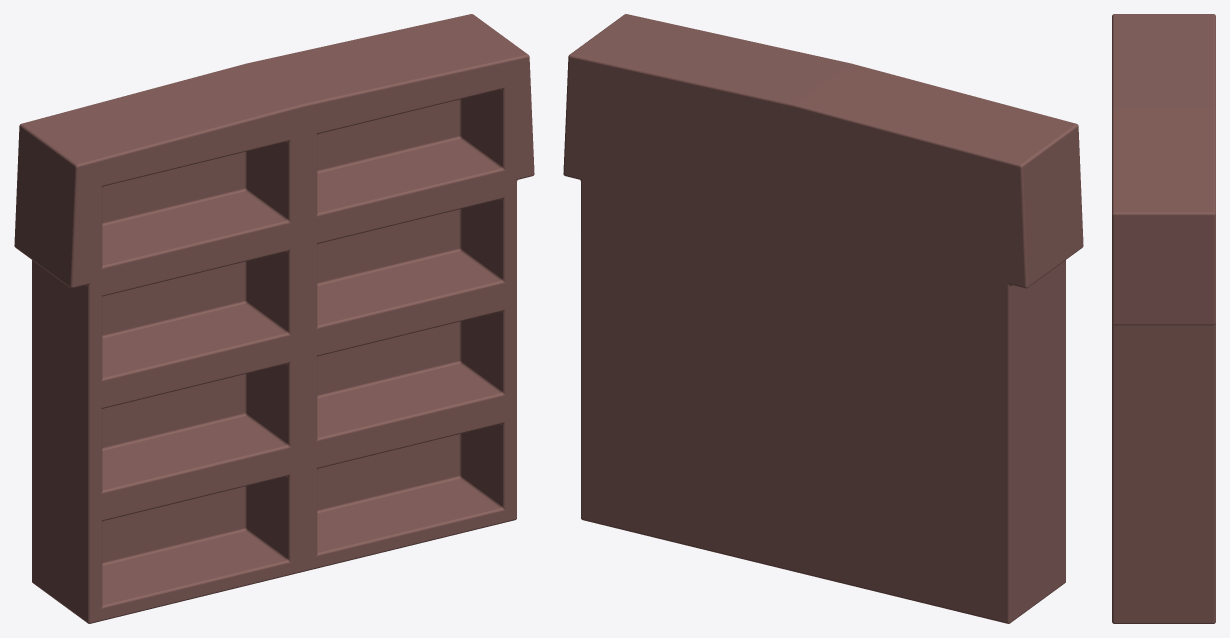
Rendered from DresserProp.fbx.
3 views of the same model, side by side, from view 1: azimuth 30°, elevation 25°; view 2: azimuth 150°, elevation 25°; view 3: azimuth 270°, elevation 25° (orthographic). The views are drawn at different scales.
Parts seen in each view (by area): view 1: Cube; view 2: Cube; view 3: Cube.
Boxes of the visible parts, left/top/right/bottom form: Cube: left=14, top=14, right=534, bottom=623; Cube: left=563, top=14, right=1083, bottom=623; Cube: left=1112, top=14, right=1215, bottom=623.
Bounding box in the file's own units: 143 × 138 × 30.79.
